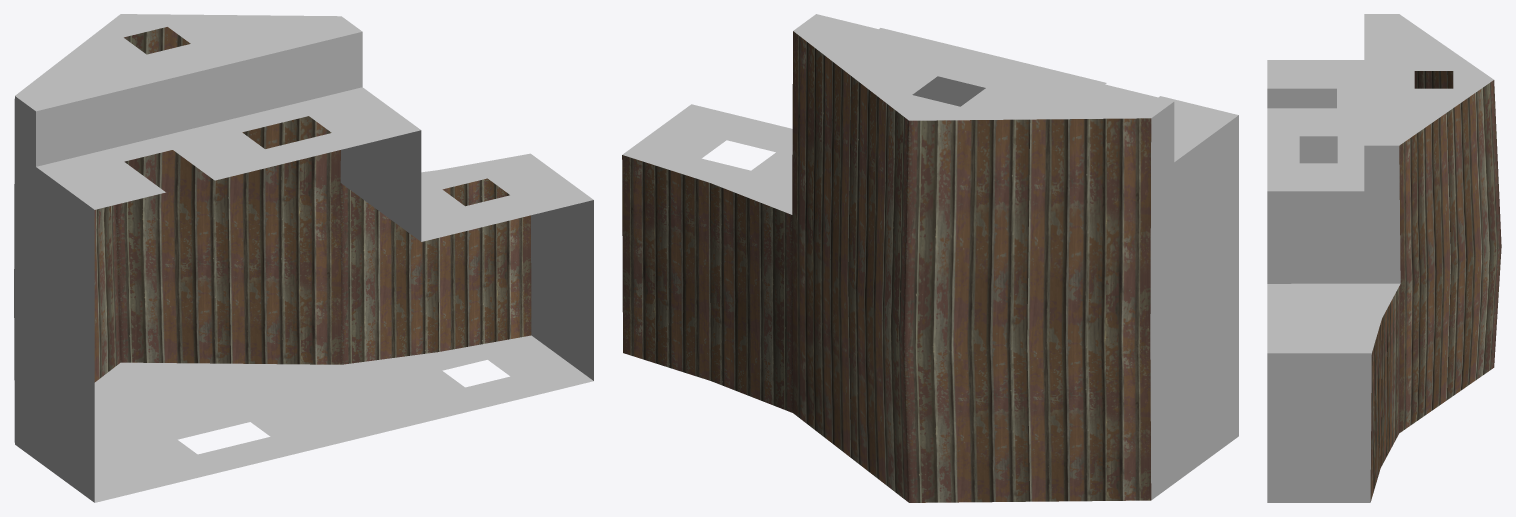
The model's file is Pirate_House_Exterior_Type02_E.fbx.
3 renders of one model, left to right at view 1: azimuth 30°, elevation 25°; view 2: azimuth 150°, elevation 25°; view 3: azimuth 270°, elevation 25°, orthographic. The views are drawn at different scales.
Parts seen in each view (by area): view 1: Pirate_House_Exterior_Type02_E; view 2: Pirate_House_Exterior_Type02_E; view 3: Pirate_House_Exterior_Type02_E.
Part boxes in pixels (left/top/right/bottom): Pirate_House_Exterior_Type02_E: left=14, top=14, right=593, bottom=502; Pirate_House_Exterior_Type02_E: left=622, top=14, right=1238, bottom=502; Pirate_House_Exterior_Type02_E: left=1267, top=14, right=1501, bottom=502.
Size of the model in its own units: 14.52 by 9.69 by 7.15.
